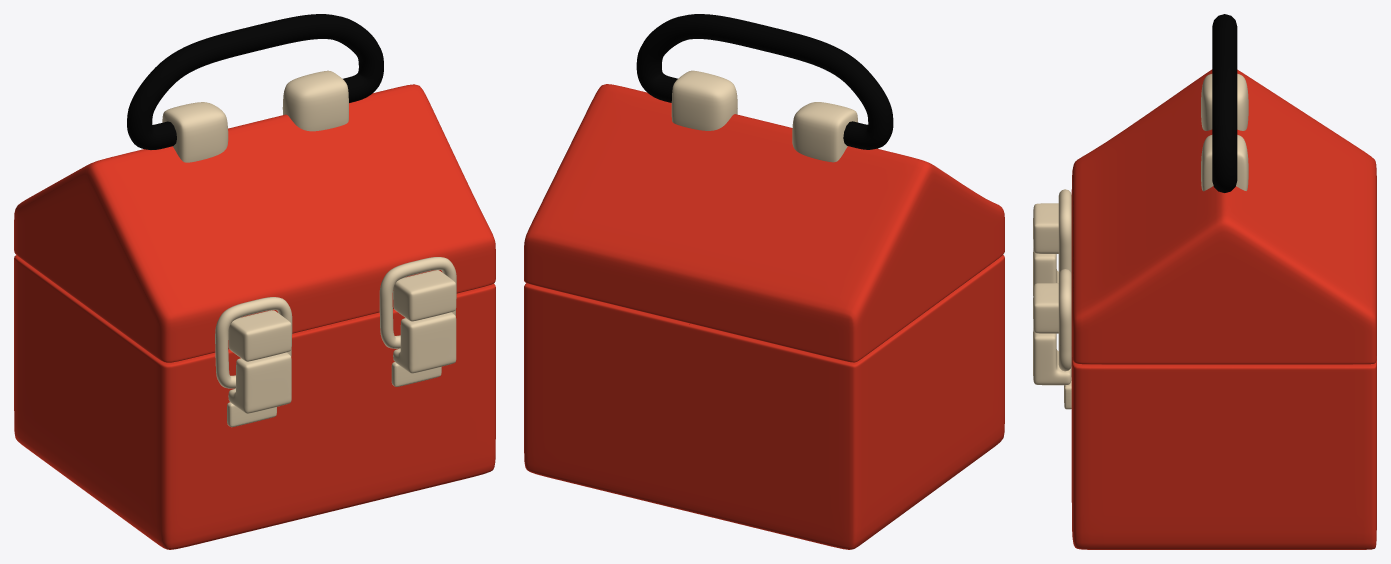
Rendered from Redbox_v02.glb.
The picture shows the model from 3 angles, left to right: view 1: azimuth 30°, elevation 25°; view 2: azimuth 150°, elevation 25°; view 3: azimuth 270°, elevation 25°; orthographic projection.
Visible parts, largest first — view 1: Redbox, Redbox.latch, Redbox.handle, Redbox.clip; view 2: Redbox, Redbox.handle; view 3: Redbox, Redbox.latch, Redbox.handle, Redbox.clip.
Part boxes in pixels (left/top/right/bottom): Redbox: left=14, top=70, right=495, bottom=549; Redbox.latch: left=227, top=270, right=456, bottom=427; Redbox.handle: left=127, top=14, right=383, bottom=149; Redbox.clip: left=215, top=257, right=456, bottom=388; Redbox: left=524, top=70, right=1004, bottom=549; Redbox.handle: left=636, top=14, right=893, bottom=149; Redbox: left=1071, top=69, right=1376, bottom=549; Redbox.latch: left=1033, top=203, right=1071, bottom=409; Redbox.handle: left=1212, top=14, right=1237, bottom=192; Redbox.clip: left=1058, top=189, right=1071, bottom=371.
Size of the model in its own units: 0.7029 by 0.8668 by 0.6311.
